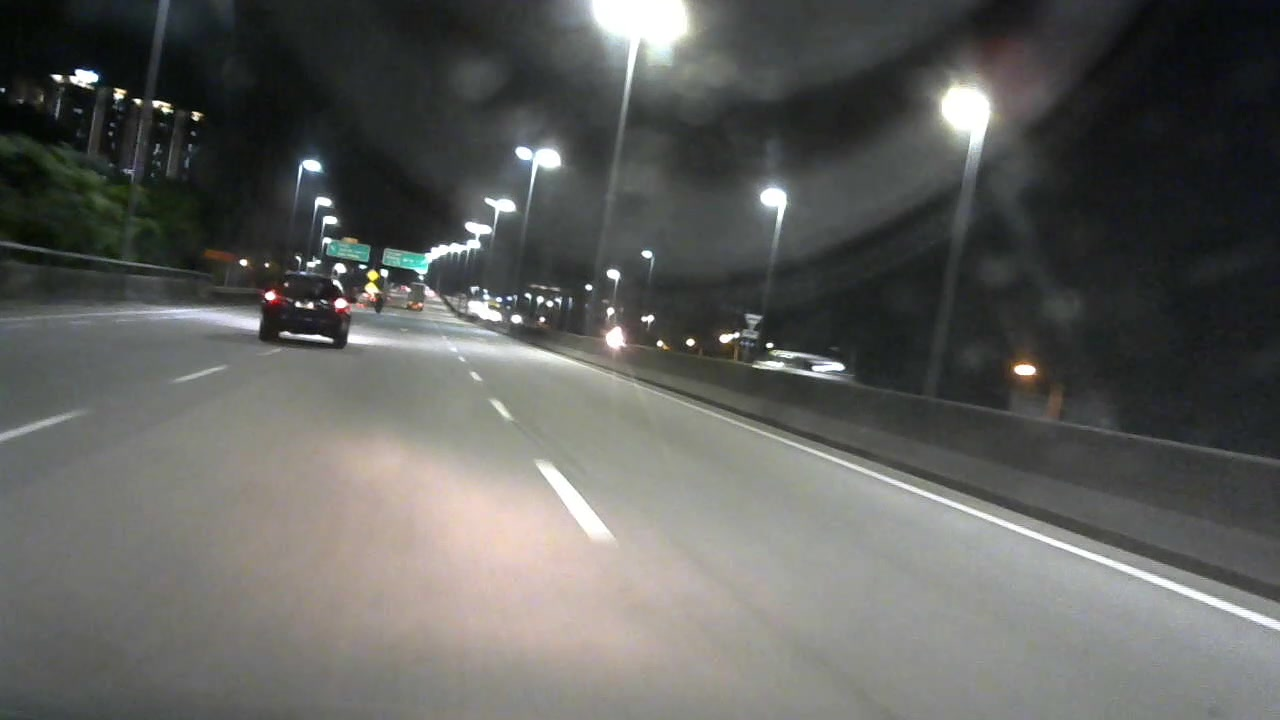Car: (245, 268, 364, 351)
